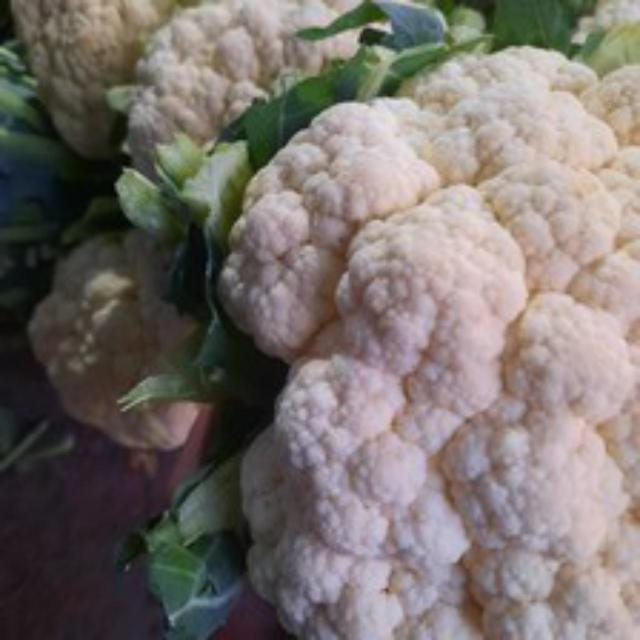cauliflower: (223, 31, 637, 637)
